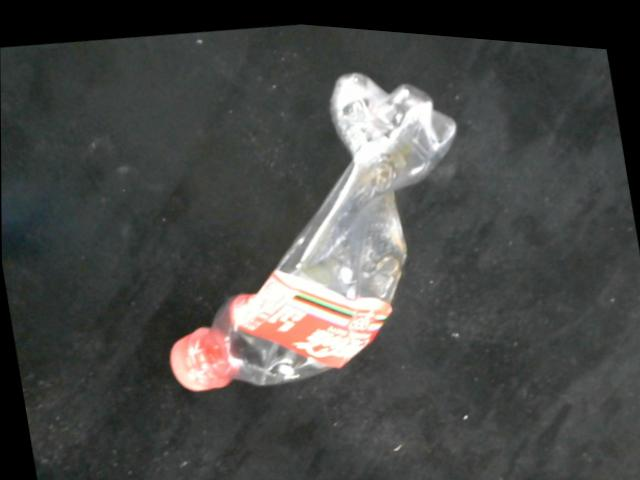bottle: (161, 64, 463, 394)
